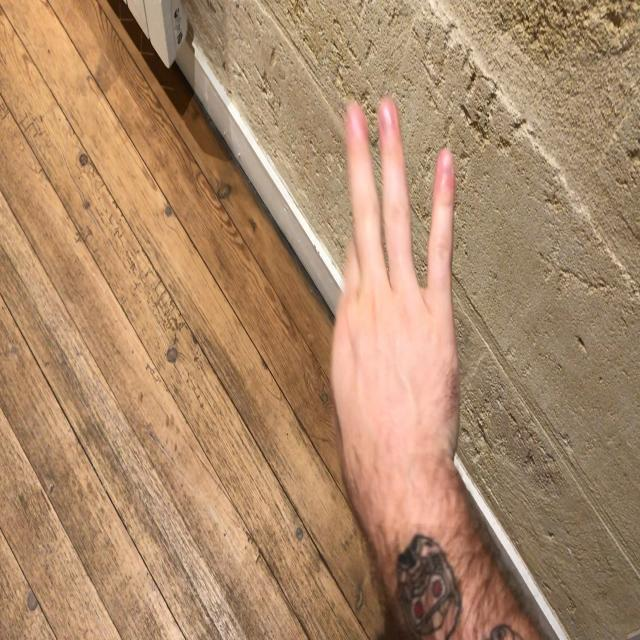hand: (326, 92, 465, 485)
